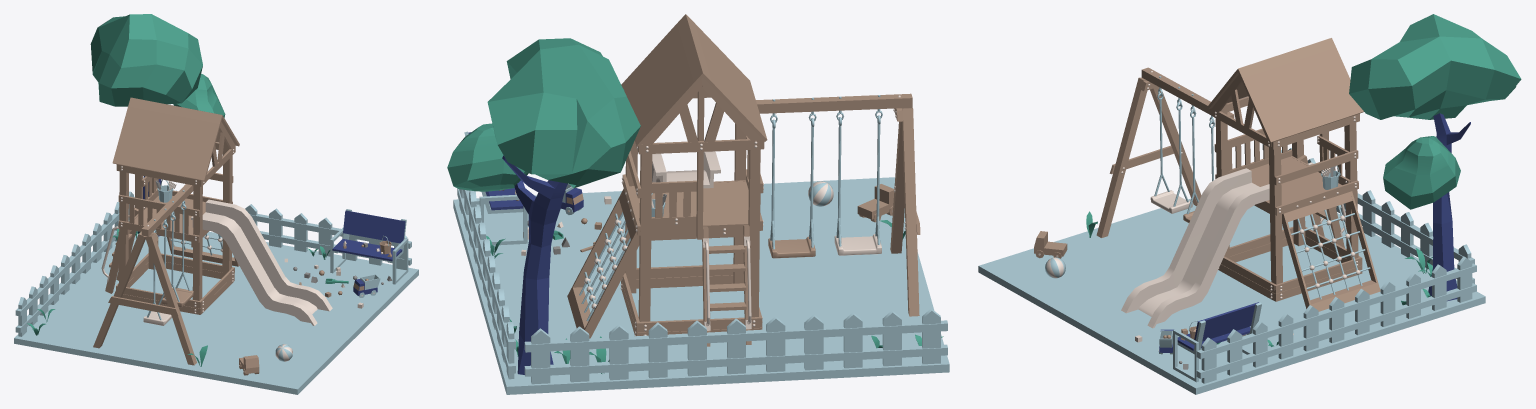
File: Playground.fbx
3 renders of one model, left to right at view 1: azimuth 30°, elevation 25°; view 2: azimuth 150°, elevation 25°; view 3: azimuth 270°, elevation 25°, orthographic. The views are drawn at different scales.
Visible parts, largest first — view 1: Playground_Base, Playground_Childrens_Complex, Playground_Tree, Playground_Fence, Playground_Bench, Playground_Chil_Car1, Playground_Grass, Playground_Chil_Car2; view 2: Playground_Childrens_Complex, Playground_Base, Playground_Tree, Playground_Fence, Playground_Bench, Playground_Chil_Car2, Playground_Grass, Playground_Chil_Car1, Playground_Ball; view 3: Playground_Childrens_Complex, Playground_Base, Playground_Tree, Playground_Fence, Playground_Bench, Playground_Chil_Car2, Playground_Grass.
Boxes of the visible parts, box(x1,y1,x2,y2) form: Playground_Base: box(14, 231, 418, 394); Playground_Childrens_Complex: box(93, 97, 332, 365); Playground_Tree: box(90, 14, 225, 236); Playground_Fence: box(15, 190, 411, 336); Playground_Bench: box(330, 209, 408, 284); Playground_Chil_Car1: box(353, 274, 380, 297); Playground_Grass: box(27, 229, 330, 366); Playground_Chil_Car2: box(239, 355, 259, 375); Playground_Childrens_Complex: box(567, 14, 920, 346); Playground_Base: box(453, 177, 949, 394); Playground_Tree: box(447, 38, 640, 374); Playground_Fence: box(457, 188, 947, 384); Playground_Bench: box(464, 131, 527, 245); Playground_Chil_Car2: box(857, 184, 894, 222); Playground_Grass: box(486, 220, 943, 373); Playground_Chil_Car1: box(560, 183, 583, 214); Playground_Ball: box(808, 181, 833, 206); Playground_Childrens_Complex: box(1096, 38, 1380, 328); Playground_Base: box(978, 198, 1485, 394); Playground_Tree: box(1349, 14, 1521, 301); Playground_Fence: box(1196, 144, 1476, 383); Playground_Bench: box(1173, 302, 1262, 382); Playground_Chil_Car2: box(1034, 231, 1067, 258); Playground_Grass: box(1086, 211, 1432, 346).
Bounding box in the file's own units: 700 × 416 × 749.
